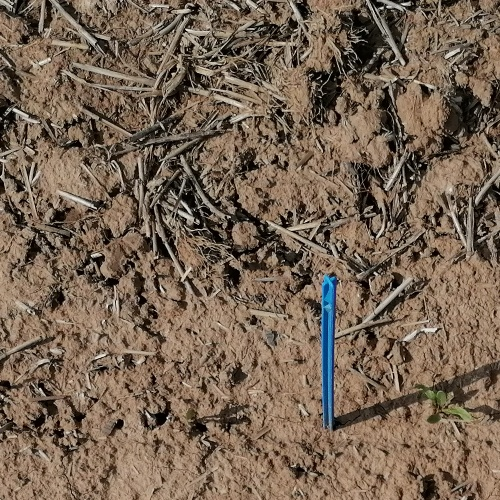beet: (426, 390, 472, 423)
